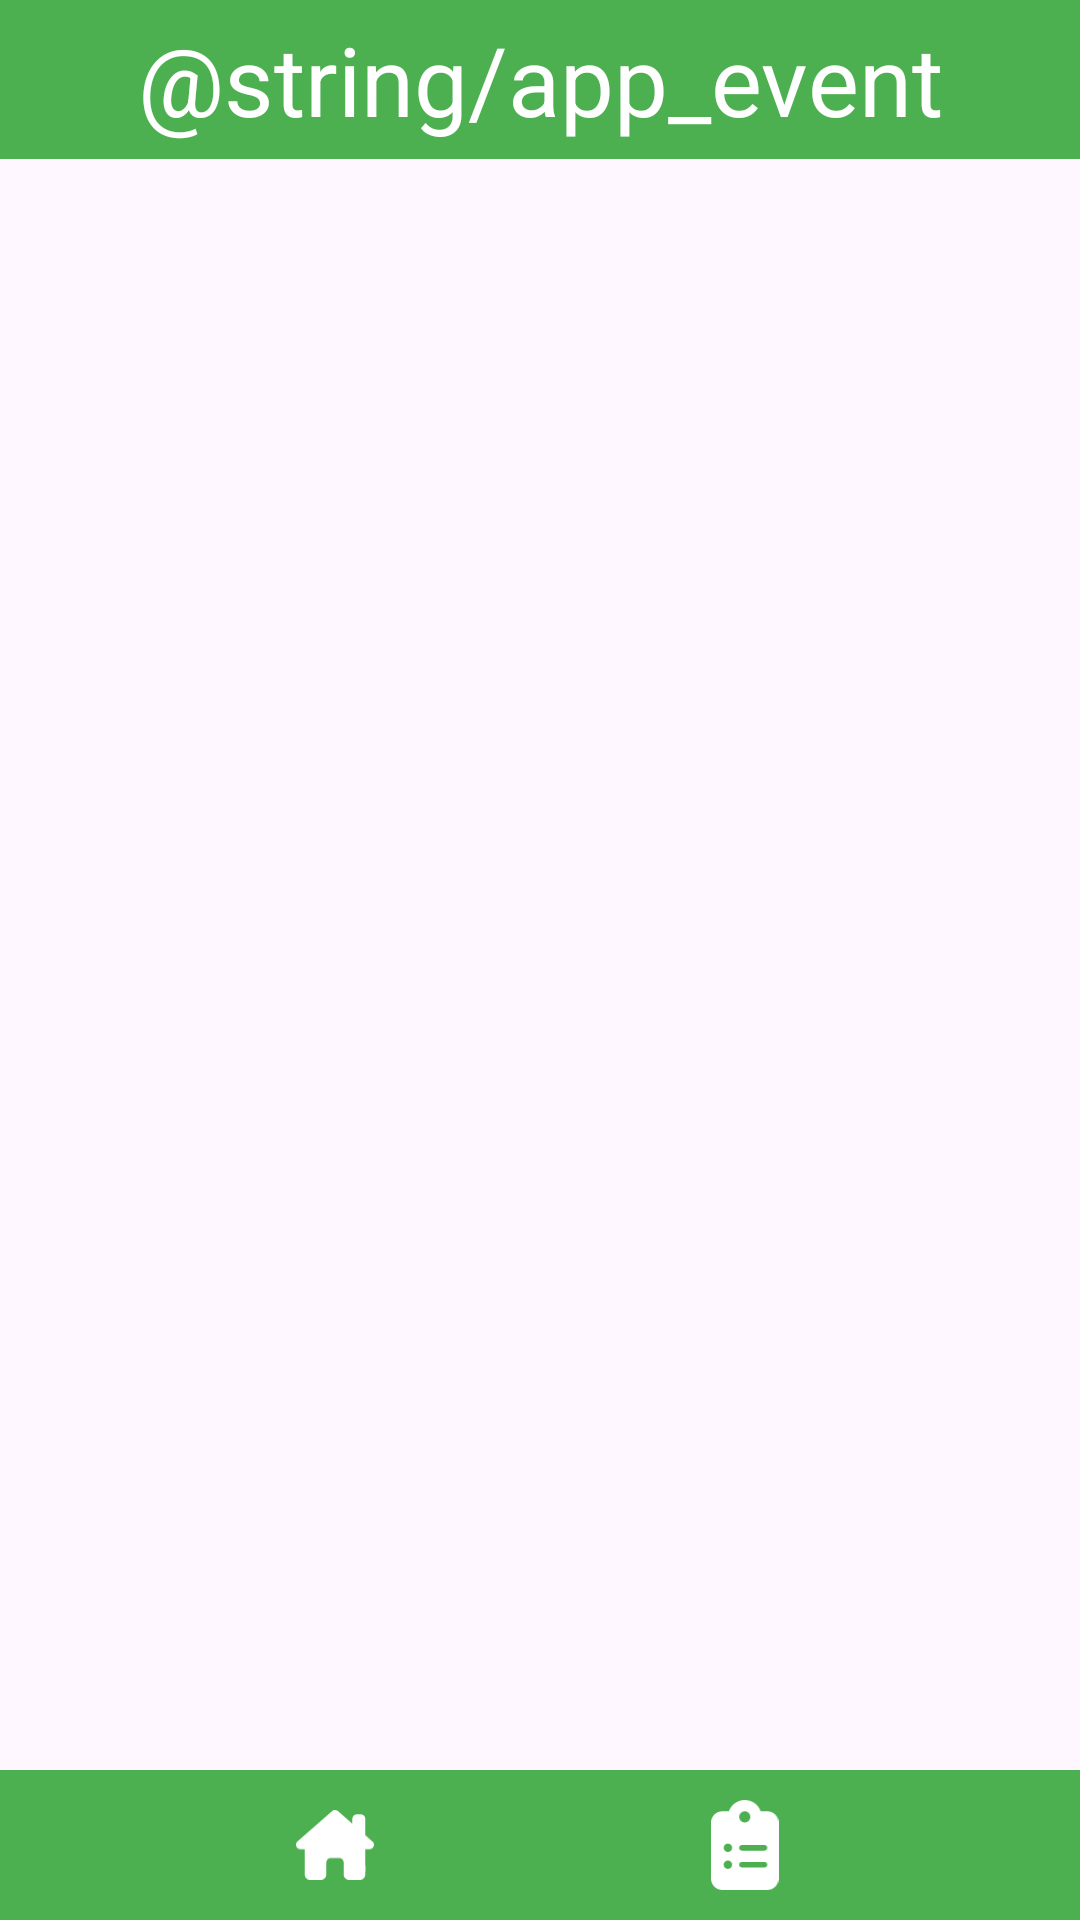

Icons on this 1080×1920 Android screen, each with the point to tap as (x,y):
clipboard list: (745,1845)
house: (335,1845)
